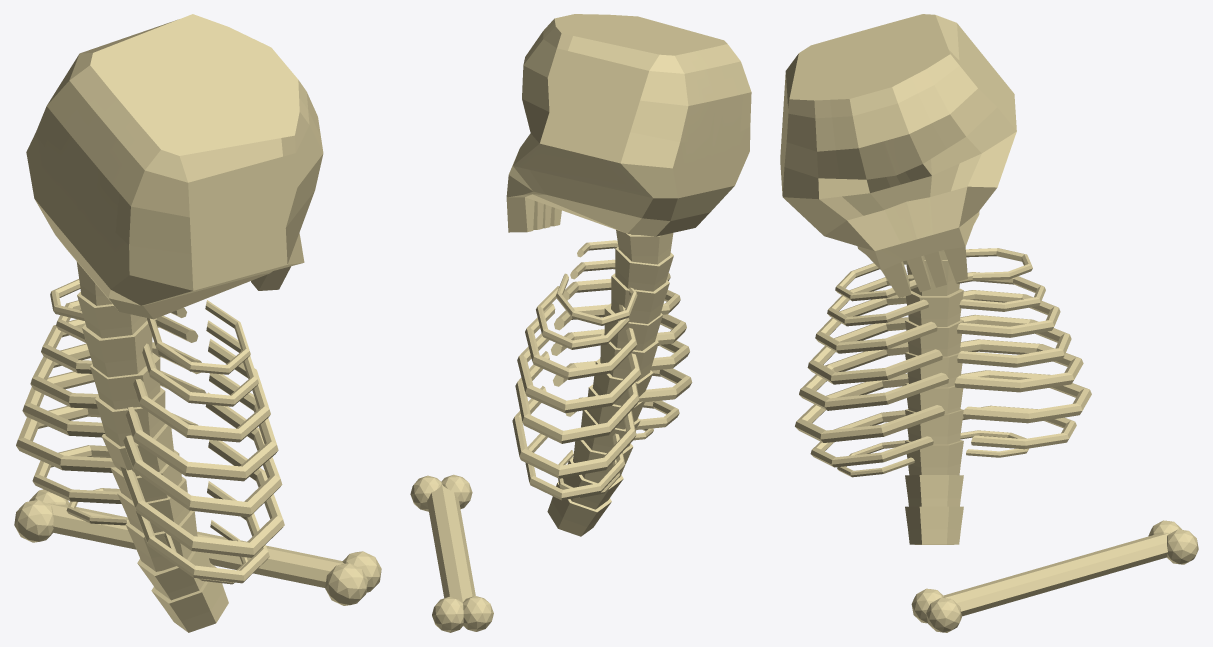
Rendered from Skeleton.fbx.
3 renders of one model, left to right at view 1: azimuth 30°, elevation 25°; view 2: azimuth 150°, elevation 25°; view 3: azimuth 270°, elevation 25°, orthographic. The views are drawn at different scales.
Visible parts, largest first — view 1: Skeleton; view 2: Skeleton; view 3: Skeleton.
Boxes of the visible parts, box(x1,y1,x2,y2) form: Skeleton: box(14, 14, 381, 632); Skeleton: box(410, 14, 751, 632); Skeleton: box(780, 14, 1198, 632).
Bounding box in the file's own units: 379 × 671 × 498.
